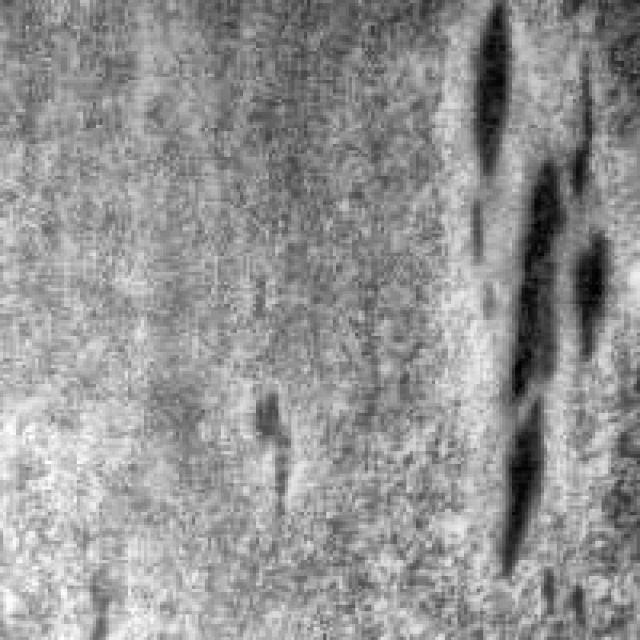Patches: (470, 7, 618, 586), (448, 0, 512, 266), (233, 365, 304, 512)
